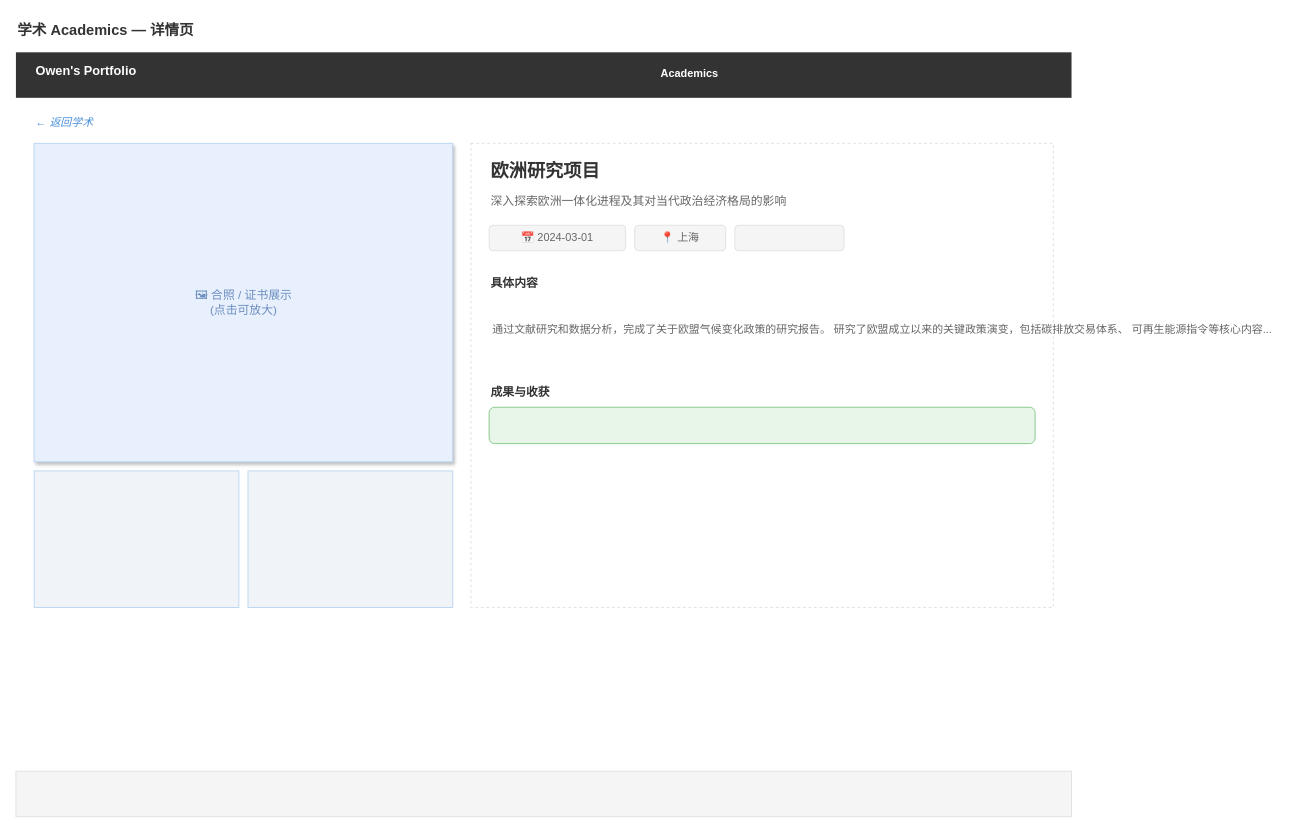
This 1289x833 diagram has some shape labels left out. Here are the shapes that lost their labels. From the top down, the centre of each, then its label:
At (789,237): "👥 个人项目".
At (761,425): "🏆 获得 IB 欧洲与世界历史 高分评价".
